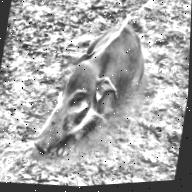boar: (30, 3, 154, 169)
